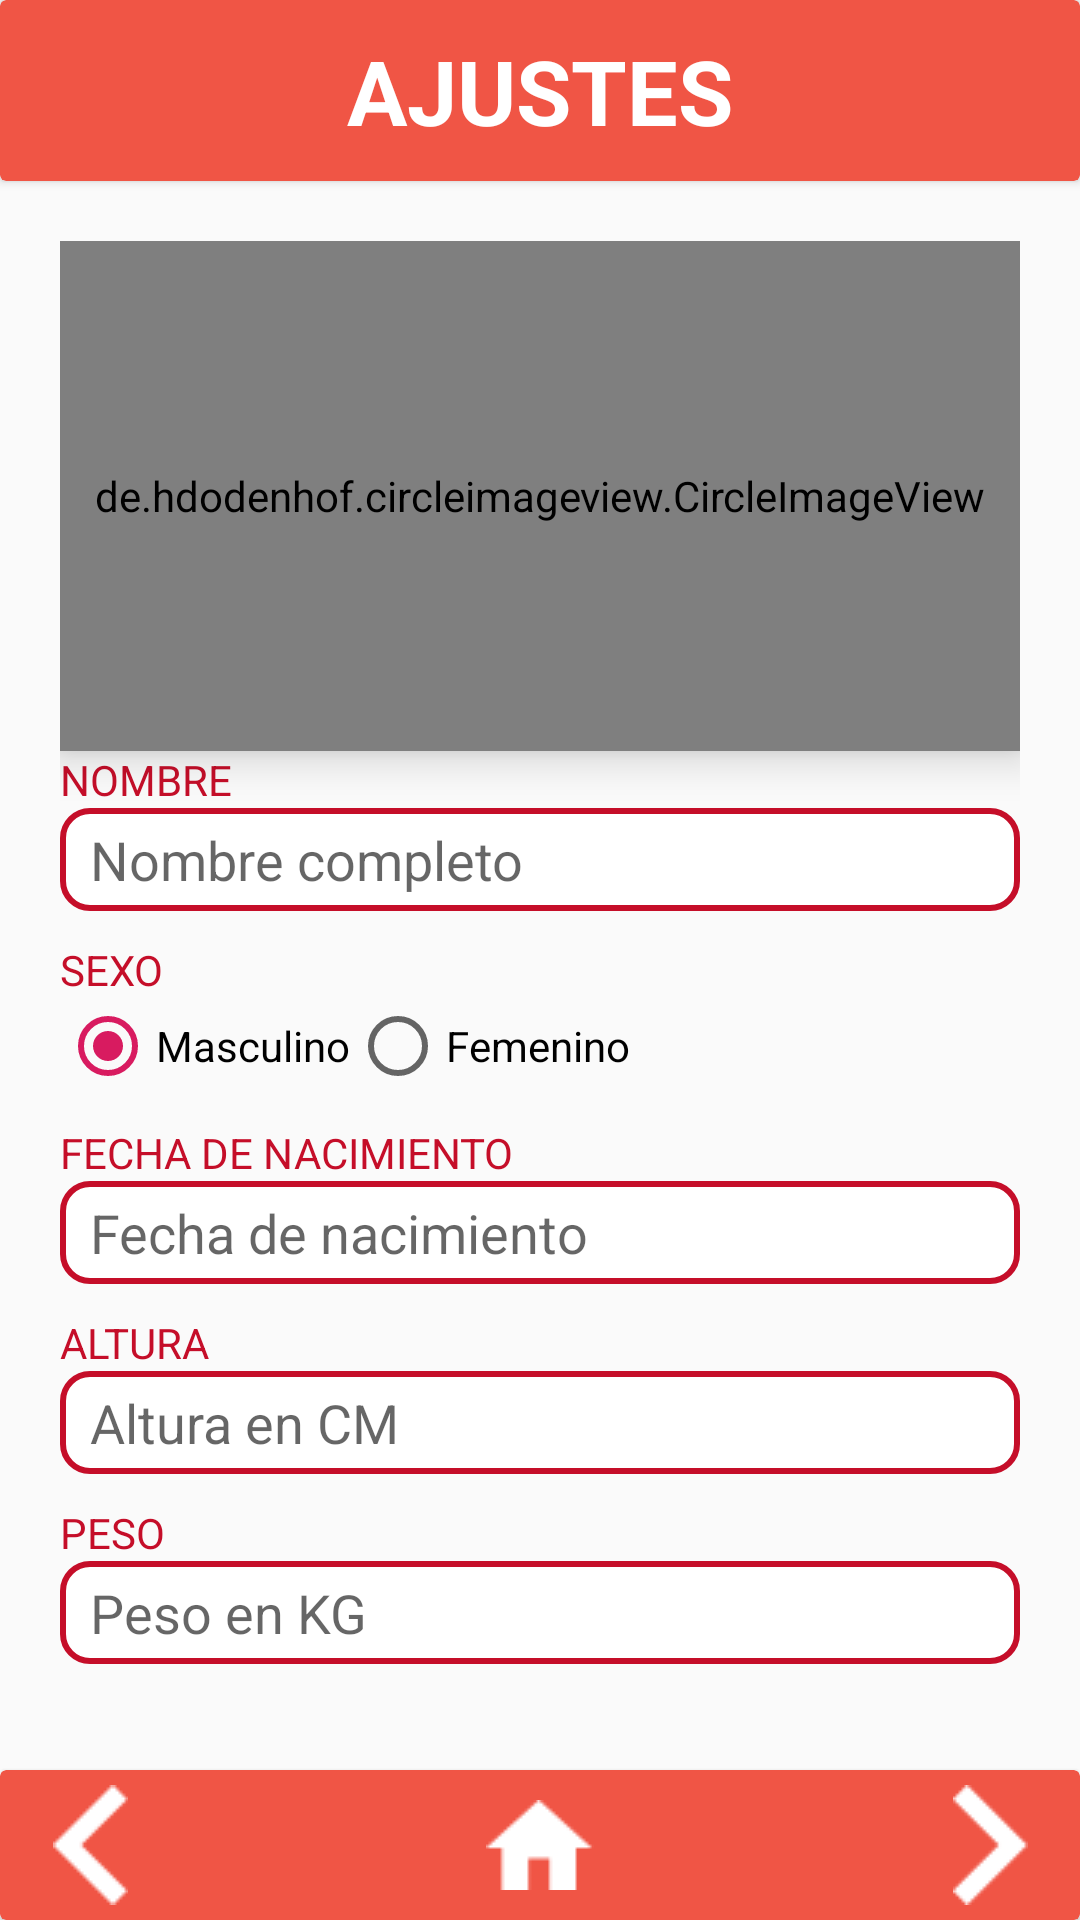

Icons on this 1080w x 1920h Android screen, each with its box as (x1, y1, x2, y2):
home: (486, 1800, 592, 1890)
paso atras: (0, 1785, 128, 1920)
siguiente paso: (953, 1785, 1080, 1920)
